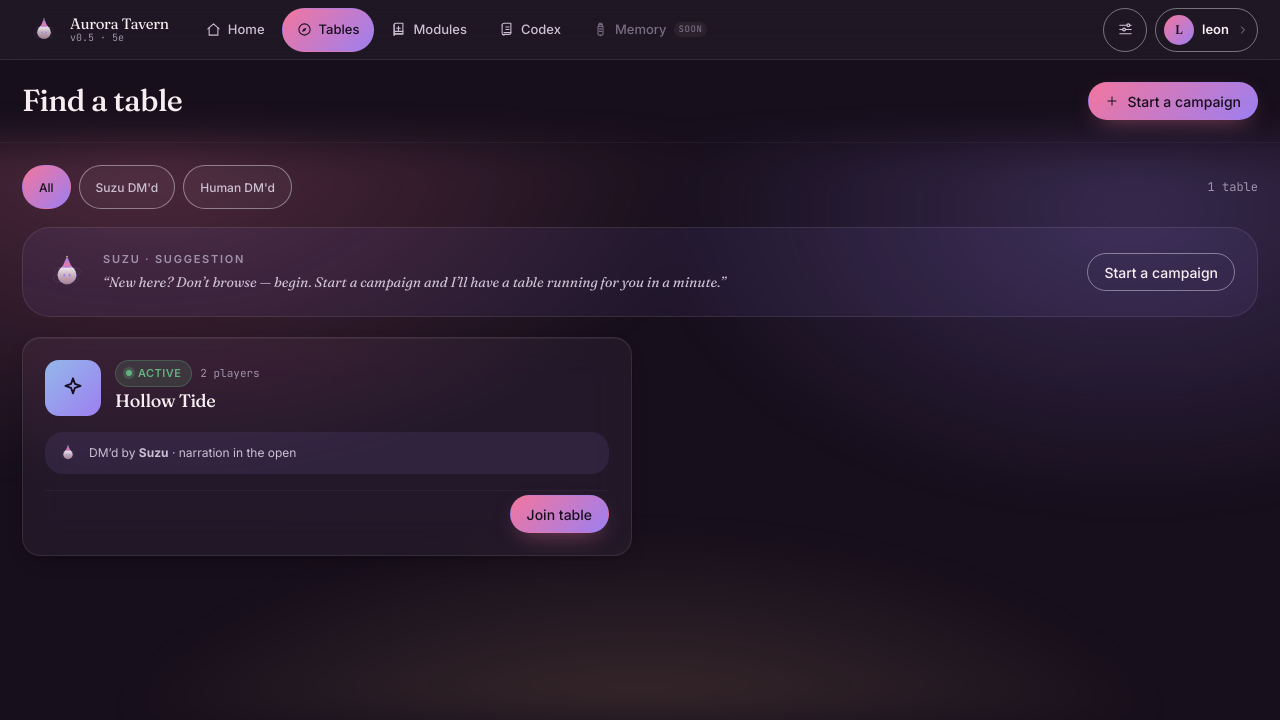
LVL: a null floor_applied keeps the plain joined toast (no level-up copy)
This screenshot has width=1280, height=720.
Click the button with aria-label "join table: hollow tide" at (559, 514), box x1=510 y1=495 x2=609 y2=533
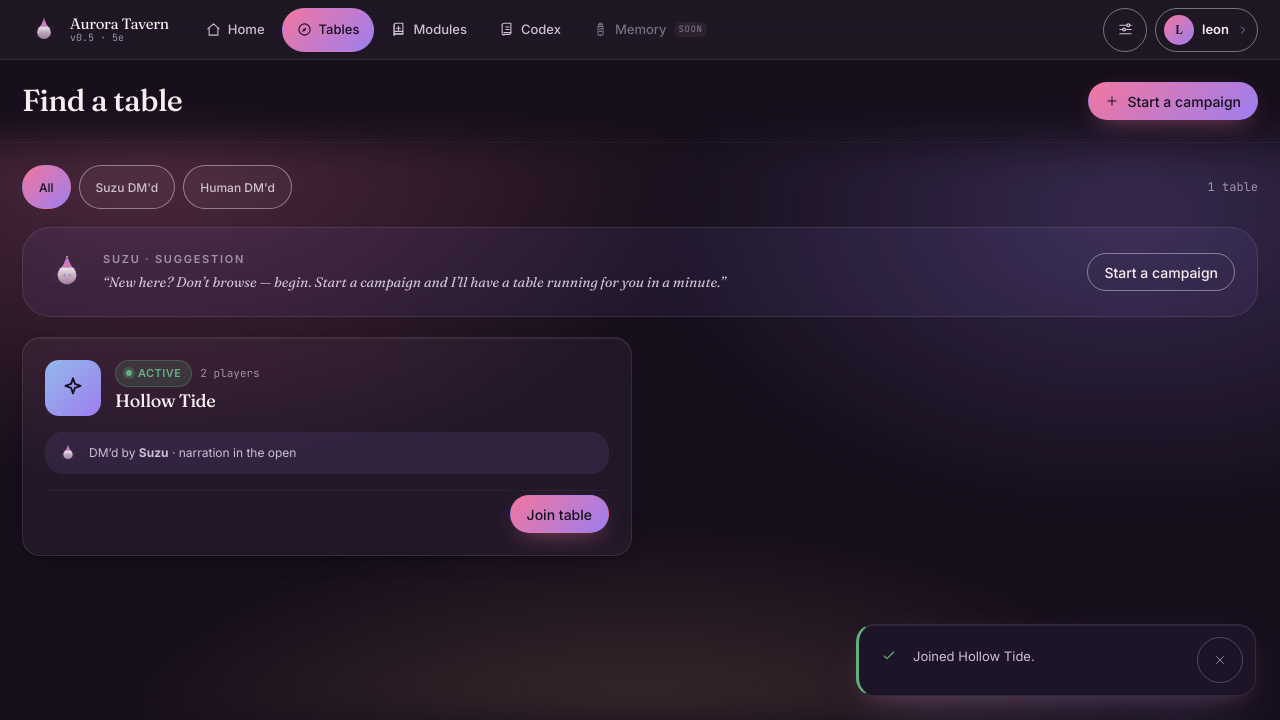
Check: the text "Joined Hollow Tide." is shown, box x1=913 y1=648 x2=1035 y2=664
